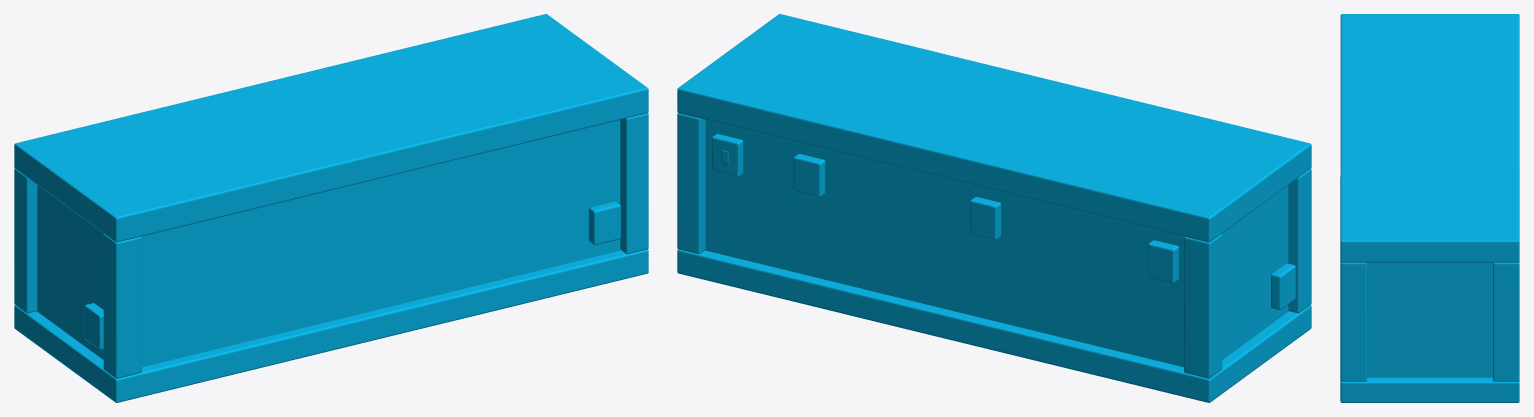
Rendered from SM_Clay_Body_05.fbx.
3 renders of one model, left to right at view 1: azimuth 30°, elevation 25°; view 2: azimuth 150°, elevation 25°; view 3: azimuth 270°, elevation 25°, orthographic. The views are drawn at different scales.
Visible parts, largest first — view 1: Cube.165_Piece.013; view 2: Cube.165_Piece.013; view 3: Cube.165_Piece.013.
Part boxes in pixels (bbox=[...]): Cube.165_Piece.013: bbox=[14, 14, 648, 402]; Cube.165_Piece.013: bbox=[677, 14, 1311, 402]; Cube.165_Piece.013: bbox=[1340, 14, 1519, 402].
Size of the model in its own units: 7.52 by 2.5 by 2.51.
